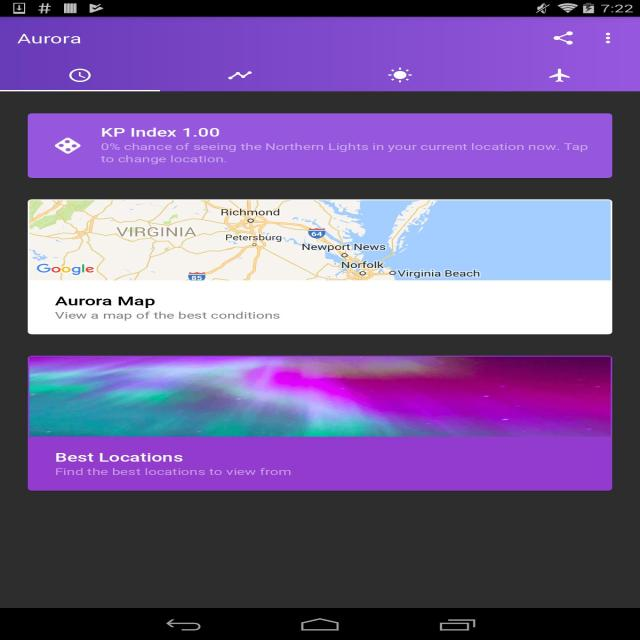button: (29, 354, 612, 491), (28, 200, 611, 335), (322, 62, 482, 90), (1, 64, 160, 92), (162, 63, 321, 91), (484, 63, 639, 90), (545, 28, 583, 48), (593, 29, 624, 47)
heading: (52, 310, 289, 322), (103, 124, 225, 139), (52, 451, 186, 464), (51, 295, 157, 309), (15, 30, 86, 47)
image: (31, 354, 612, 438), (30, 199, 611, 280), (51, 137, 85, 157)
text: (99, 142, 598, 166), (56, 466, 296, 478)
